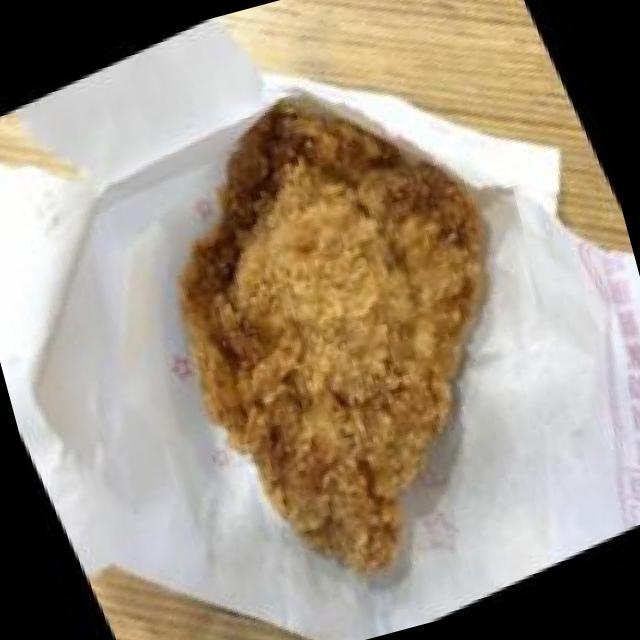fried_chicken: (88, 23, 614, 626)
